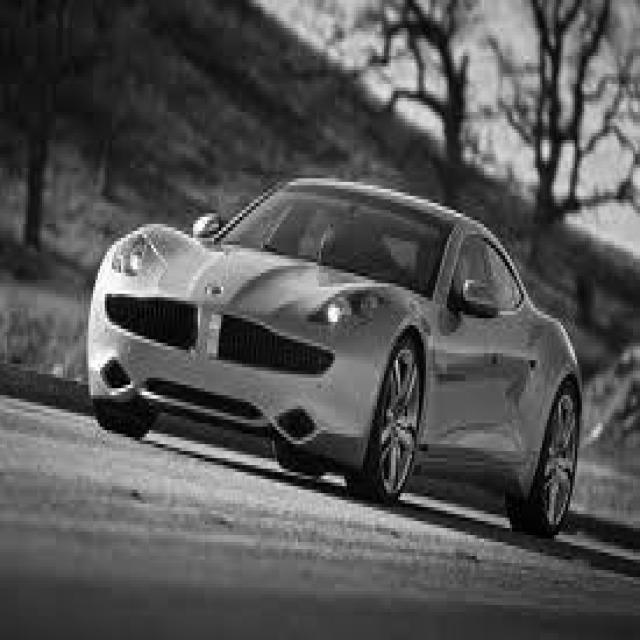car: (84, 175, 582, 535)
